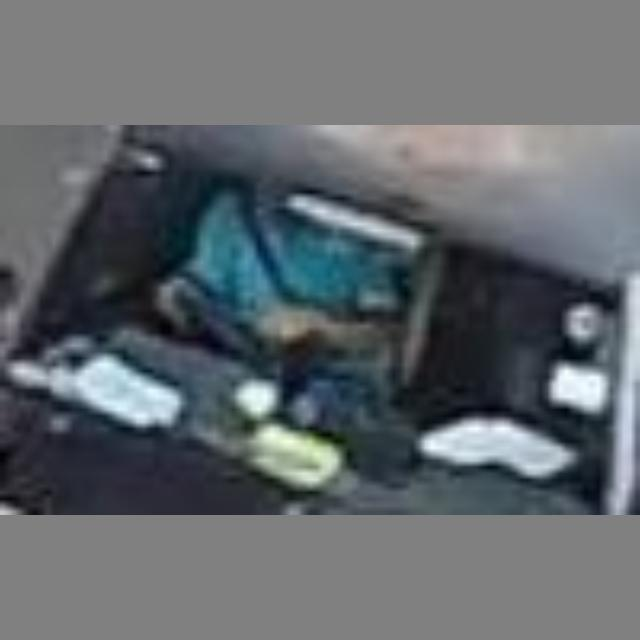pakai: (173, 202, 384, 387)
